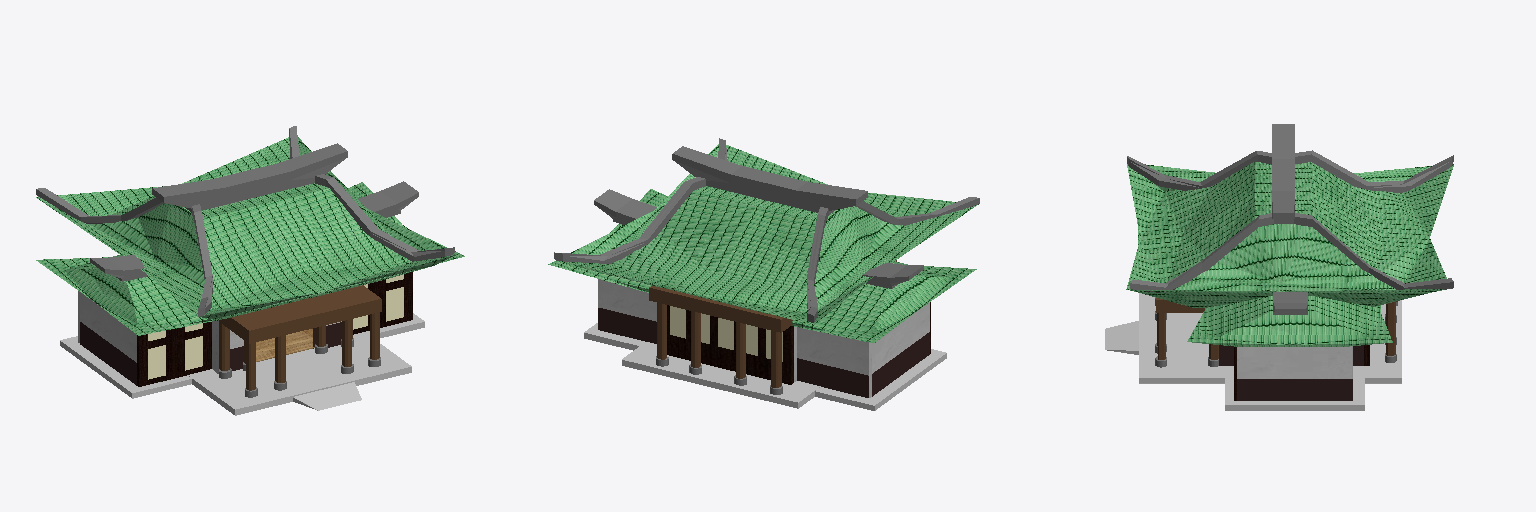
The picture shows the model from 3 angles: view 1: azimuth 30°, elevation 25°; view 2: azimuth 150°, elevation 25°; view 3: azimuth 270°, elevation 25°; orthographic projection.
Visible parts, largest first — view 1: polySurface2; view 2: polySurface2; view 3: polySurface2.
Part boxes in pixels (x1,y1,x2,y2): polySurface2: (36, 126, 464, 415); polySurface2: (548, 138, 979, 410); polySurface2: (1105, 124, 1453, 410).
Size of the model in its own units: 80.67 by 40.51 by 74.65.
Materials: 16 (8 with a texture image).